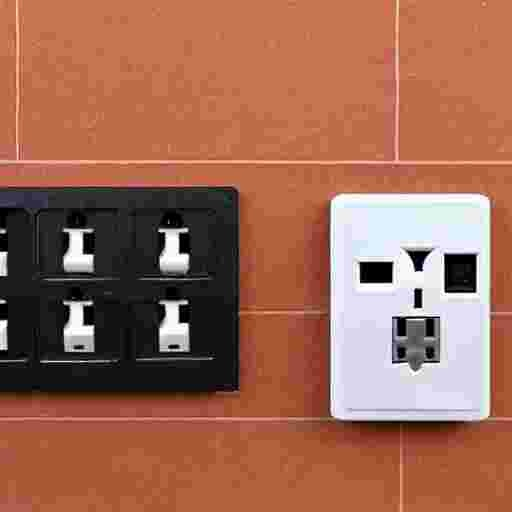power outlet: (0, 187, 238, 389), (330, 193, 490, 420)
